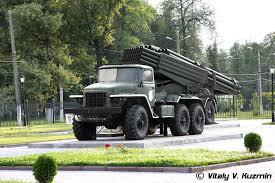MIL_SAM_TEL: (67, 45, 208, 141)
